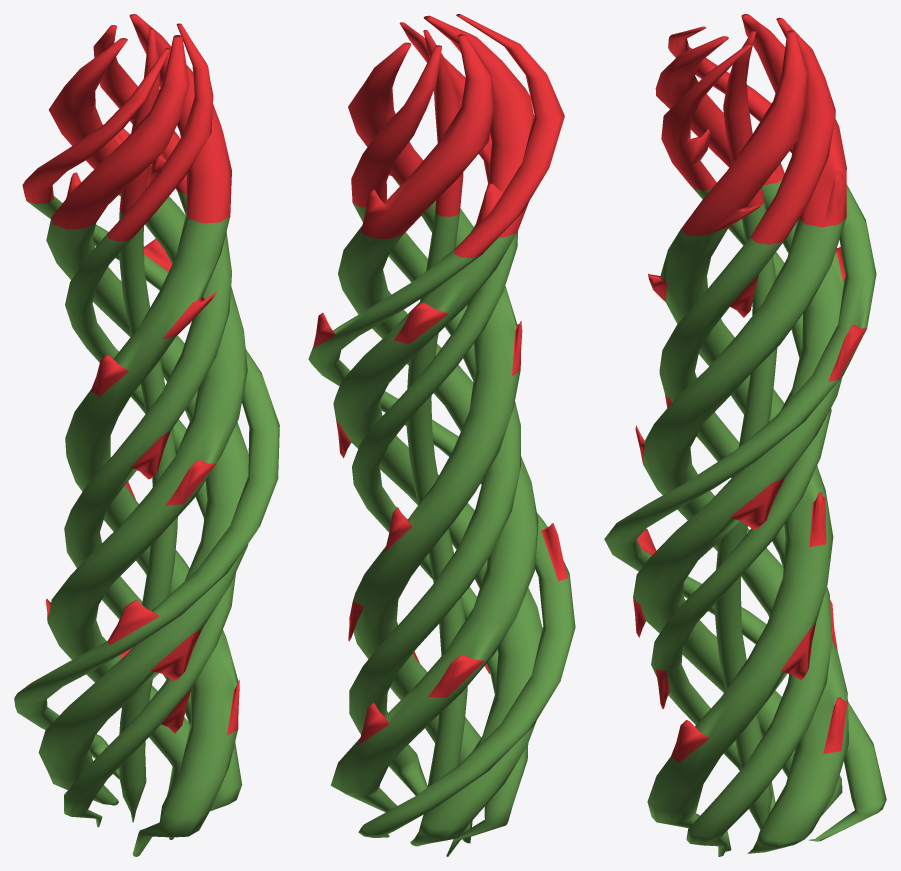
Rendered from Vines_Danger-stump.fbx.
The picture shows the model from 3 angles, left to right: view 1: azimuth 30°, elevation 25°; view 2: azimuth 150°, elevation 25°; view 3: azimuth 270°, elevation 25°; orthographic projection. The views are drawn at different scales.
Parts seen in each view (by area): view 1: Vine_Danger stump; view 2: Vine_Danger stump; view 3: Vine_Danger stump.
Part boxes in pixels (bbox=[...]): Vine_Danger stump: bbox=[14, 14, 279, 856]; Vine_Danger stump: bbox=[308, 14, 575, 856]; Vine_Danger stump: bbox=[604, 14, 886, 856].
Size of the model in its own units: 102 by 105 by 342.
